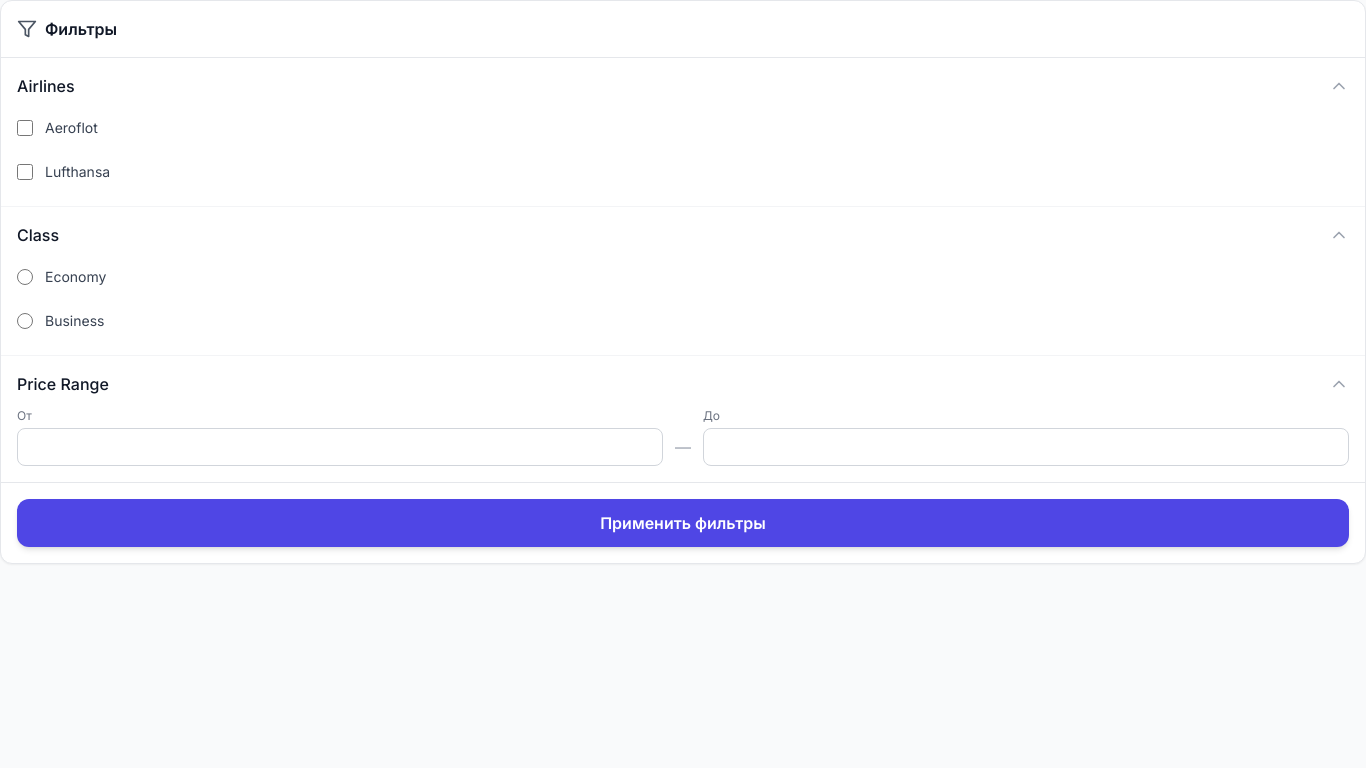
Scenario: FilterPanel Component › Expand/Collapse › collapses group when clicked
Click the button "Airlines" at (46, 86), box [17, 74, 1349, 98]
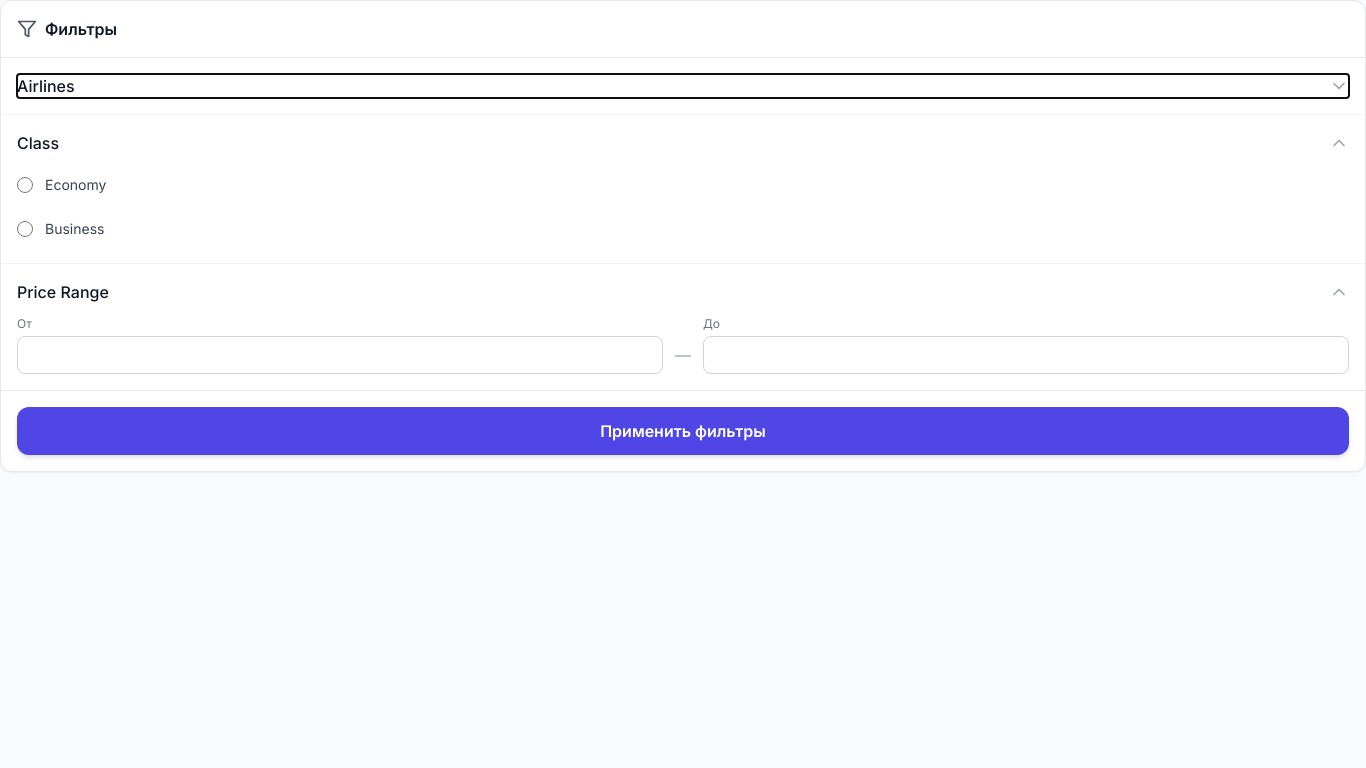
Now the text labelled "Aeroflot" is gone
